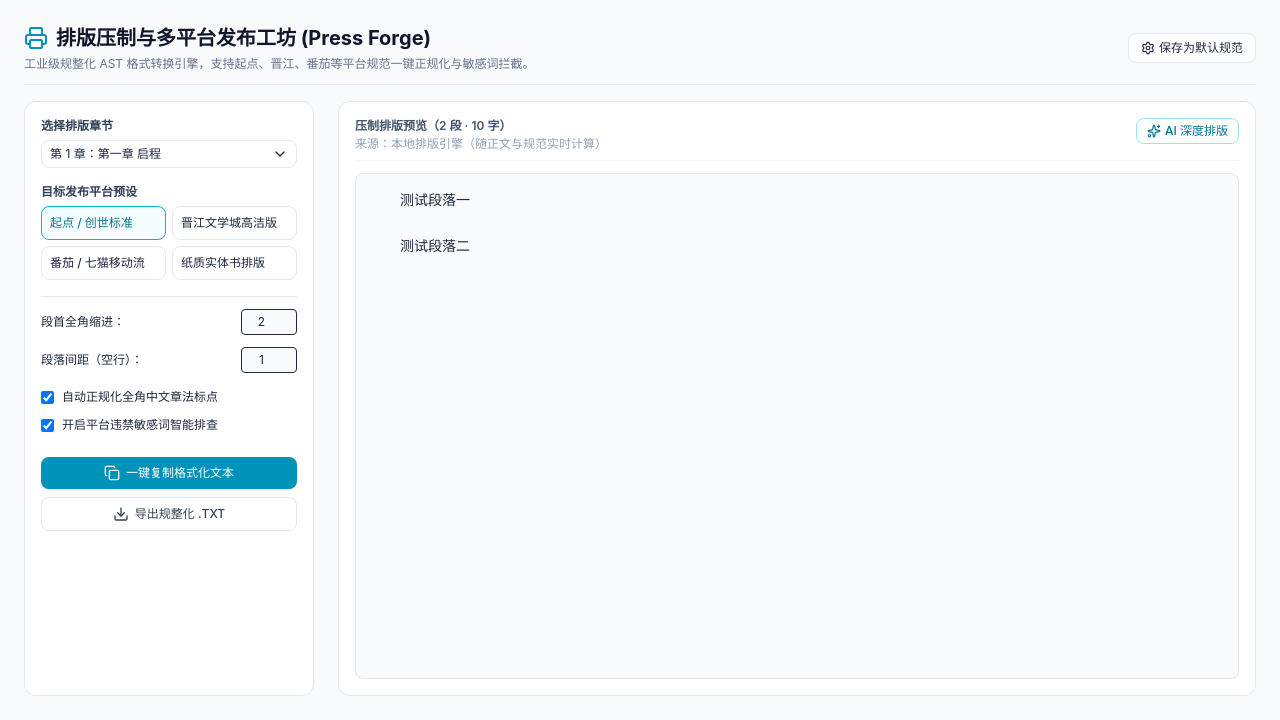
Test: PressForge Components › runs the Runtime tool only on an explicit click, and projects stored HTML at that boundary
The width and height of the screenshot is (1280, 720).
What coordinates should you click on to do the following:
click the button with test id "press-forge-ai-run"
I would click on:
 (1188, 131)
Its box is x1=1136 y1=118 x2=1239 y2=144.
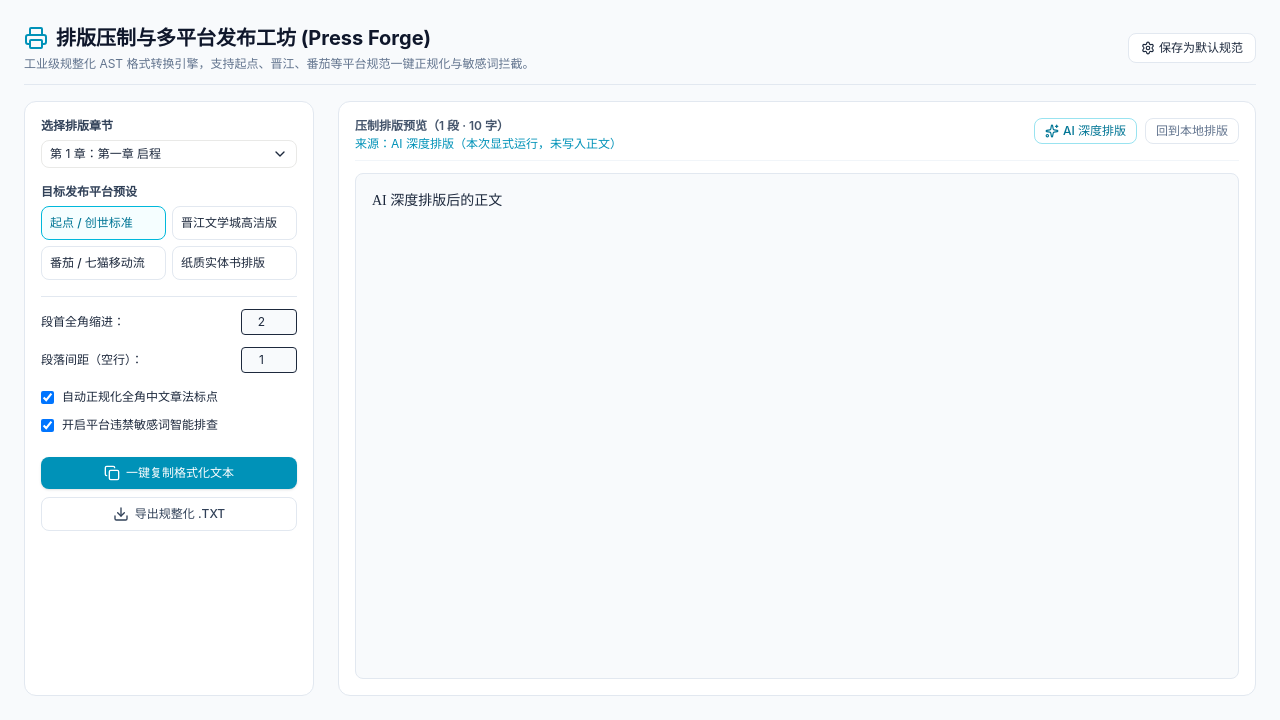
expect the text box holds "AI 深度排版后的正文": met, box x1=355 y1=173 x2=1239 y2=679
expect the text with test id "press-forge-result-origin" shows "来源：AI 深度排版": met, box x1=355 y1=136 x2=622 y2=151
